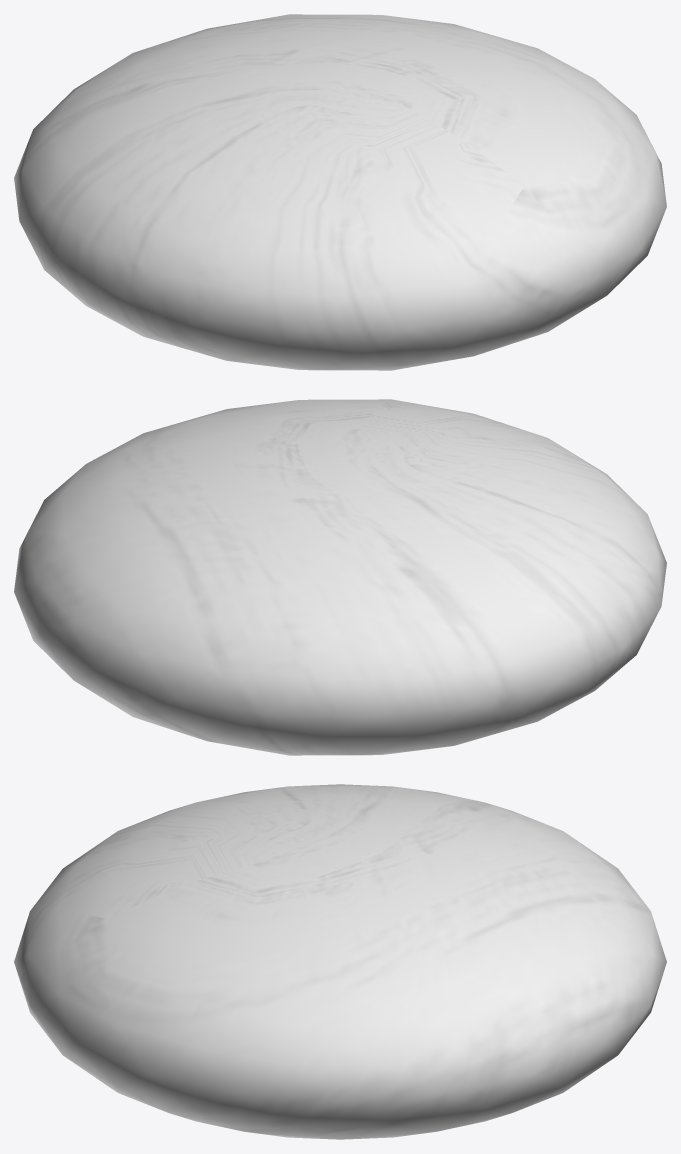
File: stone_white.gltf
The picture shows the model from 3 angles, top to bottom: view 1: azimuth 30°, elevation 25°; view 2: azimuth 150°, elevation 25°; view 3: azimuth 270°, elevation 25°; orthographic projection.
Parts seen in each view (by area): view 1: Icosphere.002; view 2: Icosphere.002; view 3: Icosphere.002.
Part boxes in pixels (x1,y1,x2,y2): Icosphere.002: (14, 14, 666, 370); Icosphere.002: (14, 399, 666, 755); Icosphere.002: (14, 784, 666, 1139).
Bounding box in the file's own units: 0.0212 × 0.00823 × 0.0212.
1 material, 1 textured.
